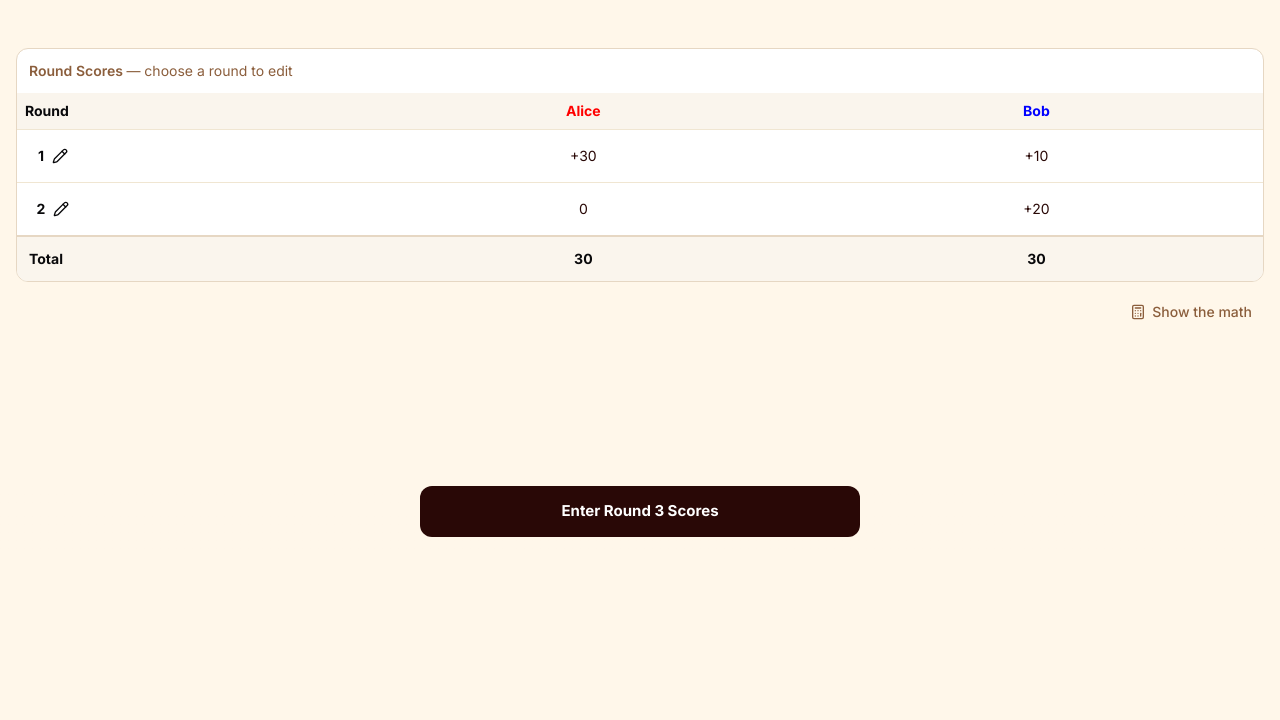
Test case: ongoing game round editing › switches the displayed and saved draft to the newly selected round
This screenshot has width=1280, height=720.
Click the button named "Edit round 1" at (53, 156), box [21,134,85,178]
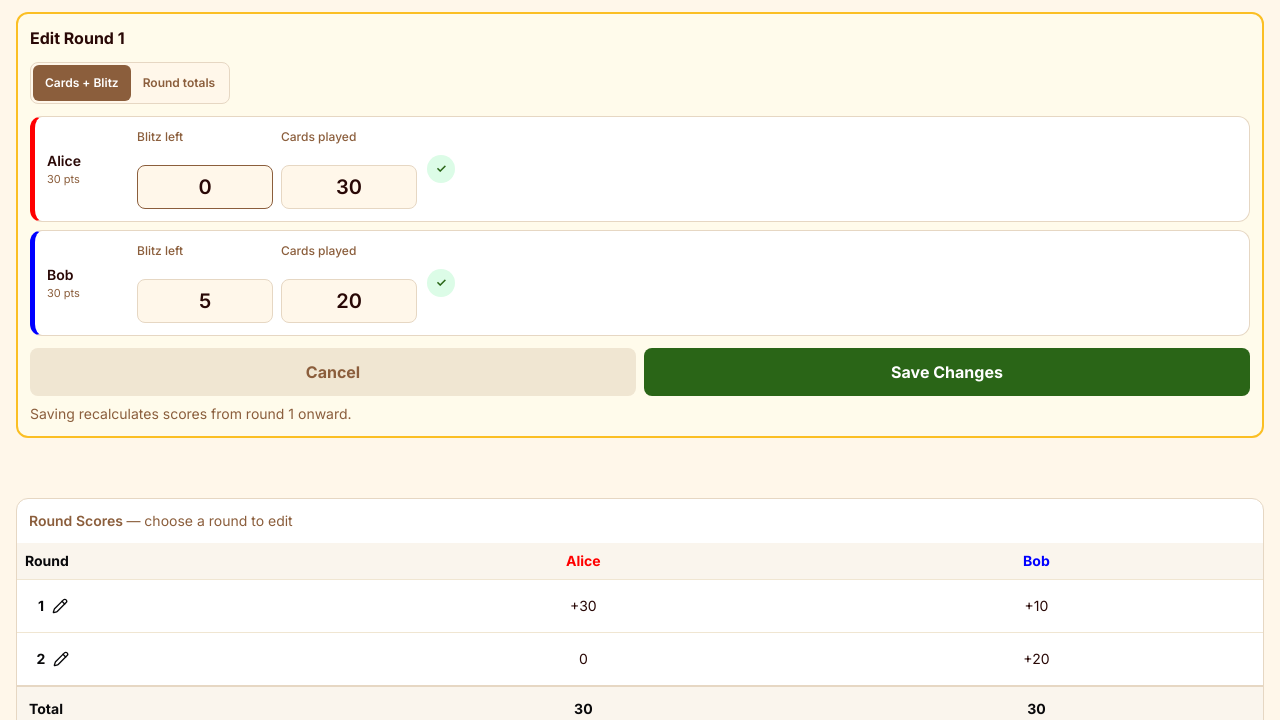
Replace the text in the 1st field labelled "Cards played" with "35" at (349, 187), box [281,165,417,209]
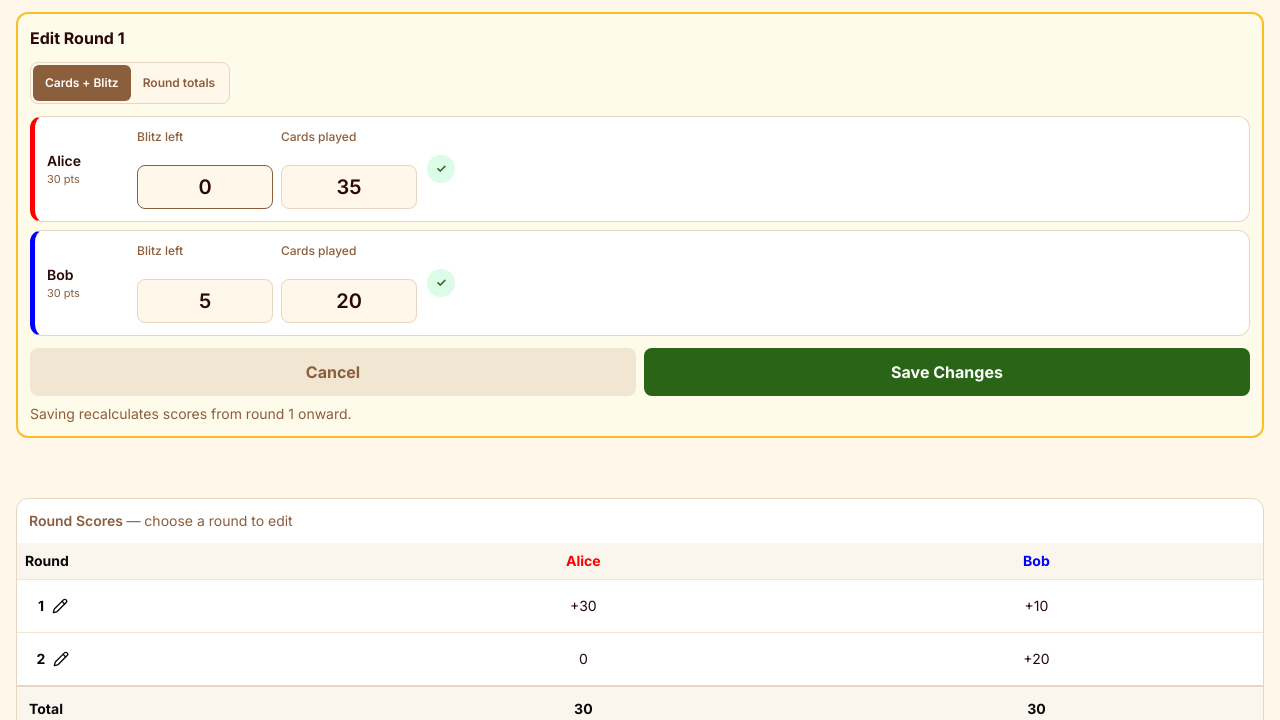
Click the button named "Edit round 2" at (53, 659), box [21,637,85,681]
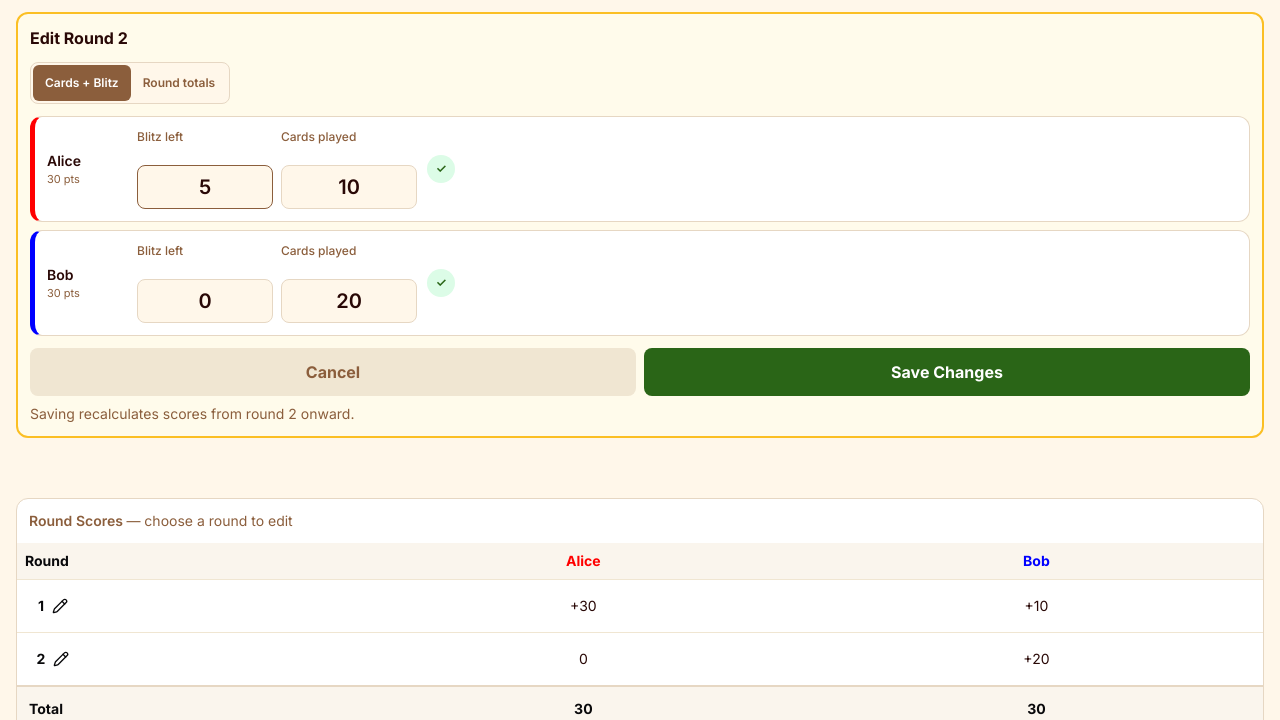
Now the heading "Edit Round 2" is shown, box [30,28,128,48]
Click the button "Save Changes" at (947, 372), box [644,348,1250,396]
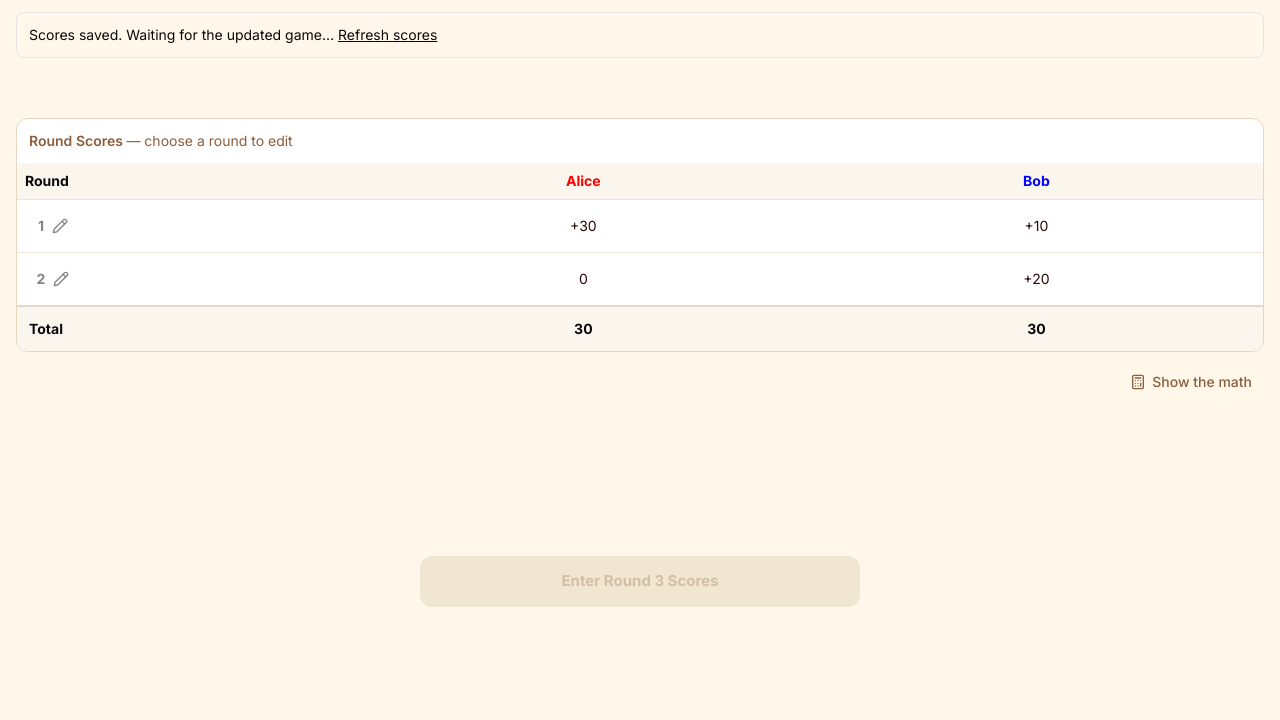
Now the heading "Edit Round 2" is gone
